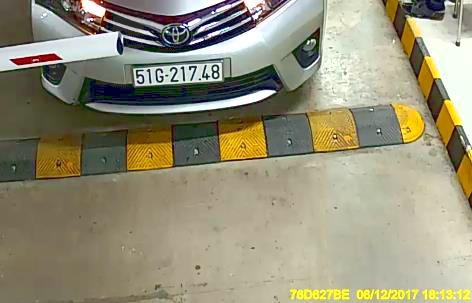plate: (129, 60, 224, 86)
